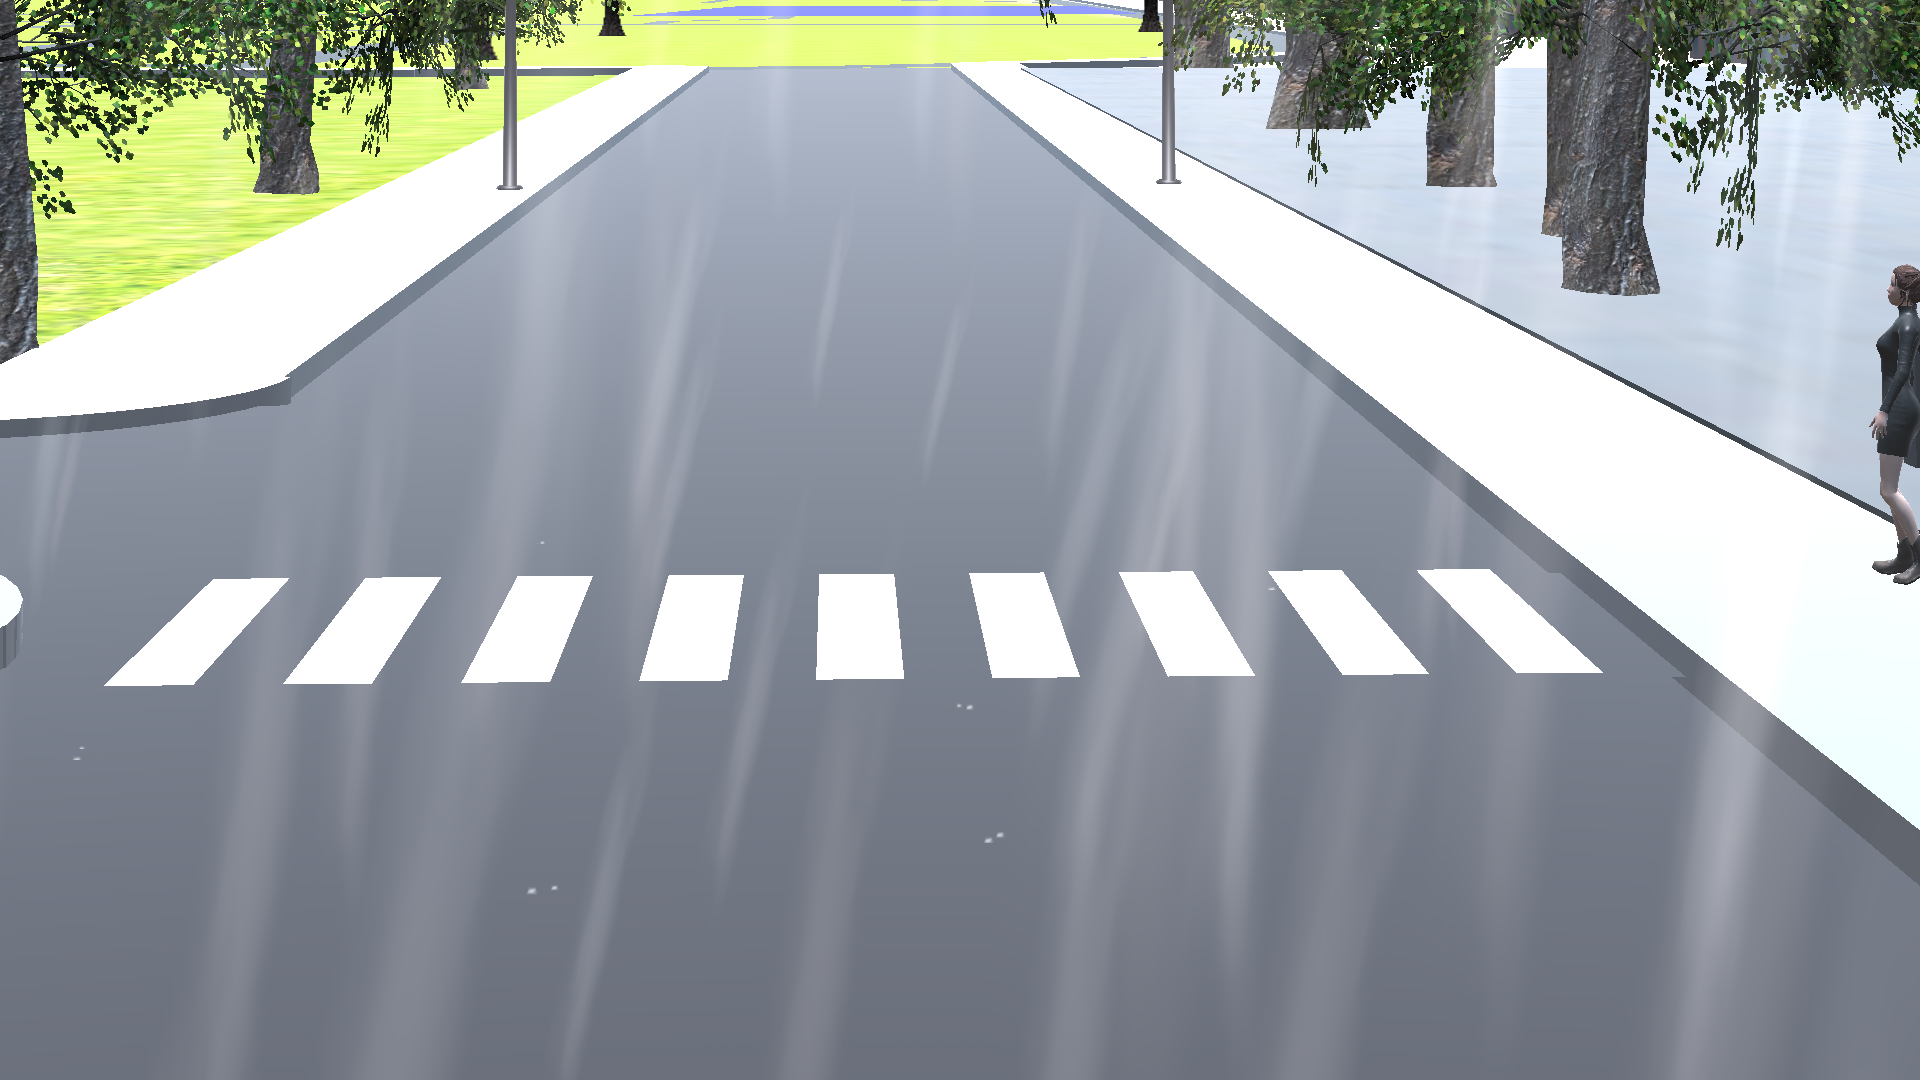pedestrian: (1862, 245, 1920, 593)
